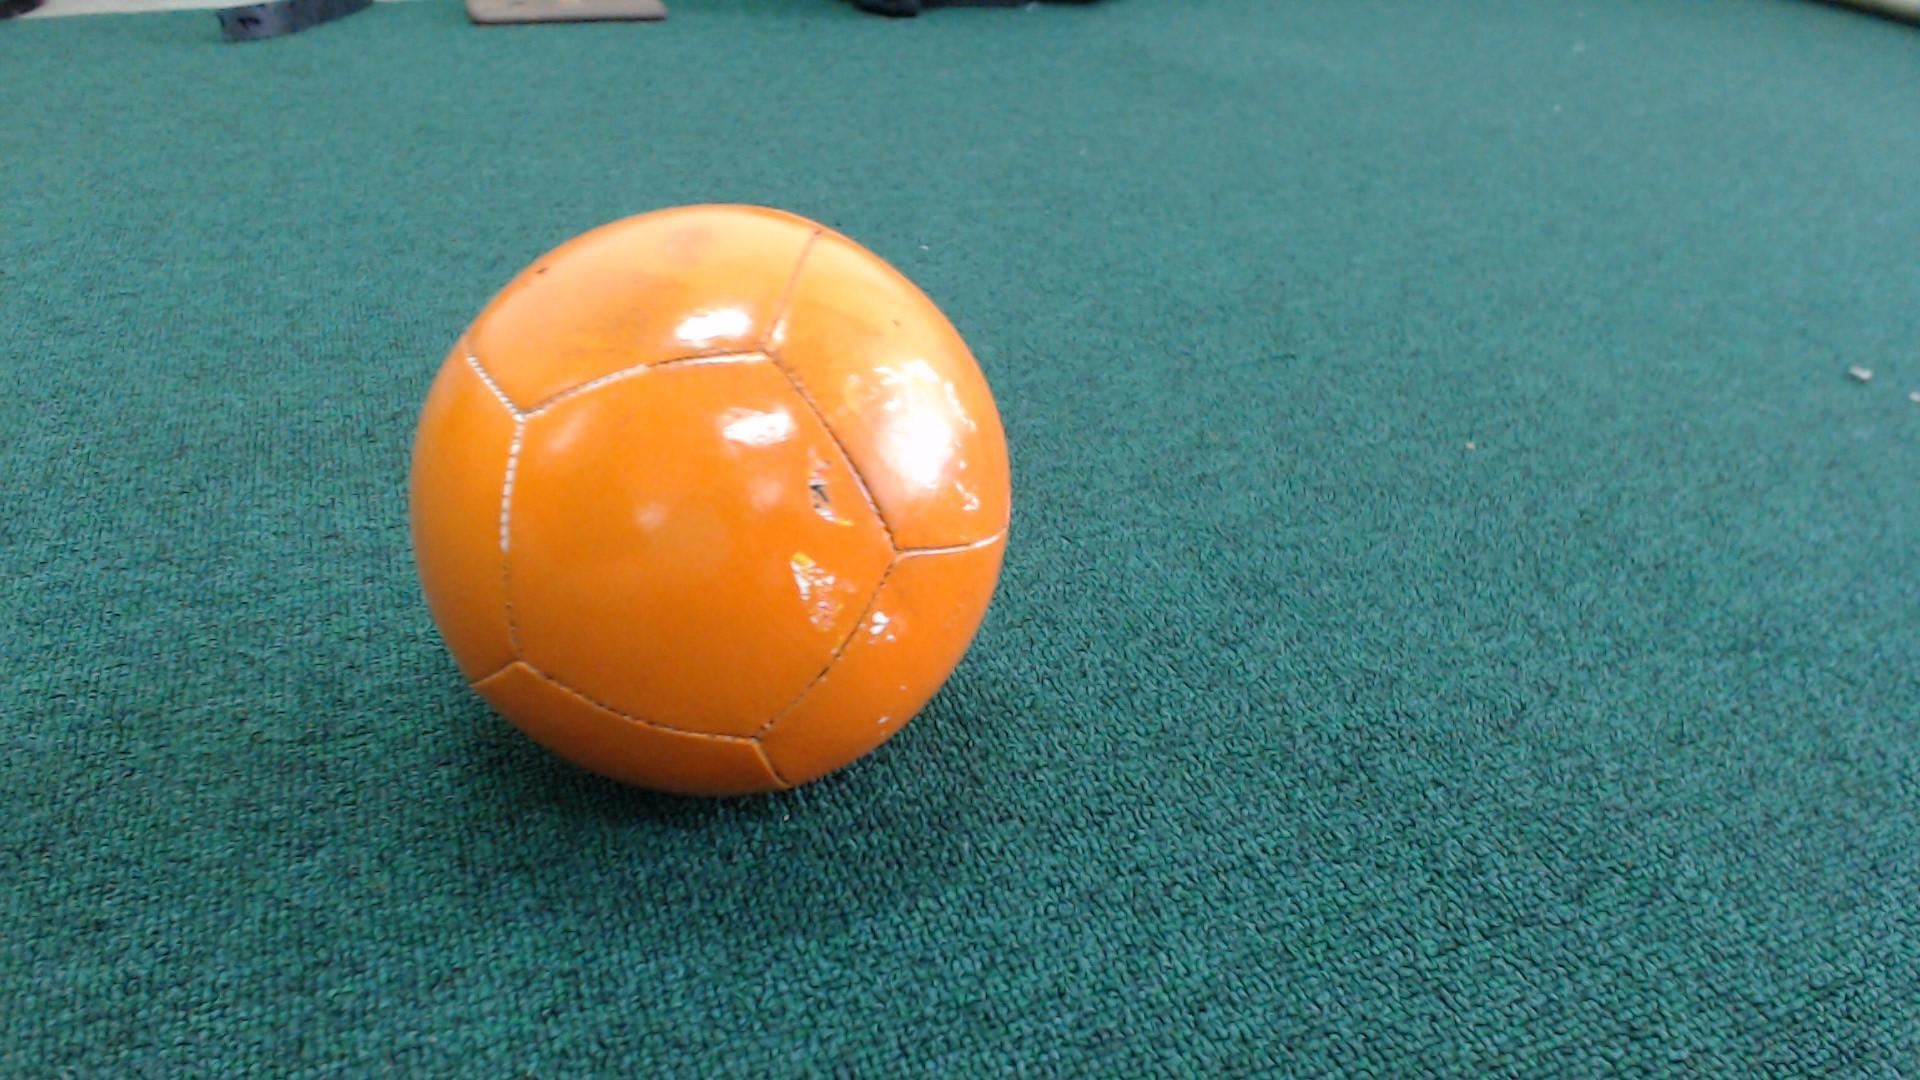bola: (364, 169, 1068, 835)
